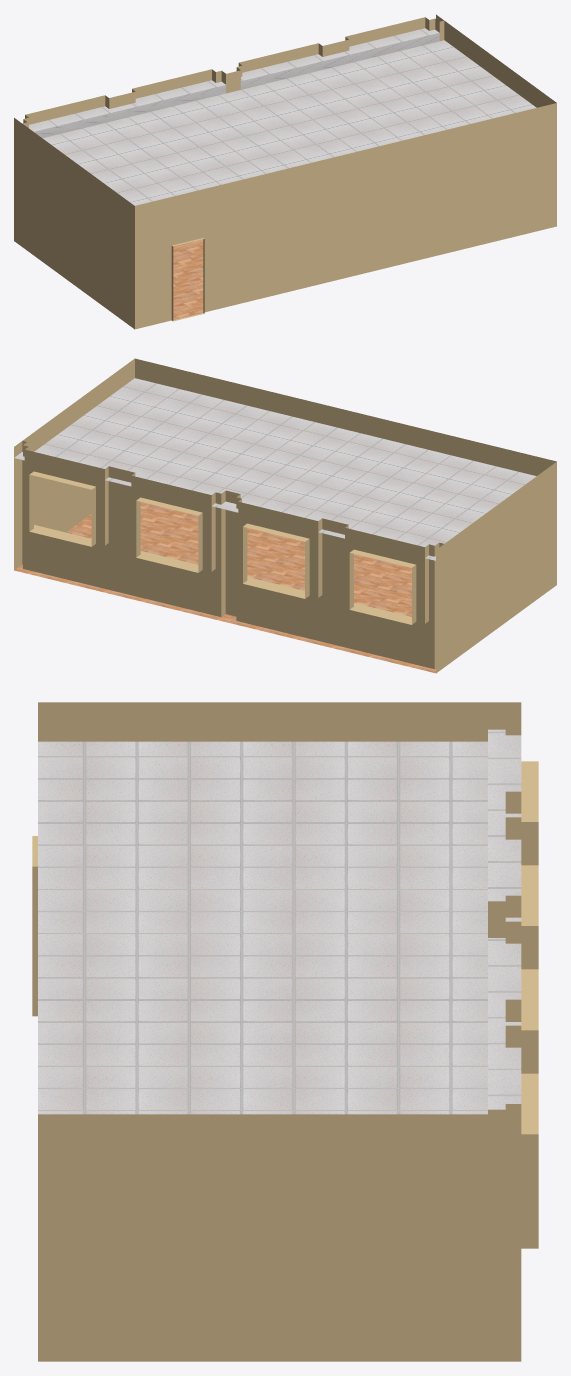
Rendered from room4_1.glb.
3 views of the same model, one above another, from view 1: azimuth 30°, elevation 25°; view 2: azimuth 150°, elevation 25°; view 3: azimuth 270°, elevation 25° (orthographic). The views are drawn at different scales.
Parts seen in each view (by area): view 1: 4et.010; view 2: 4et.010; view 3: 4et.010.
Boxes of the visible parts, <box> form: 4et.010: <box>14,14,556,329</box>; 4et.010: <box>14,358,556,673</box>; 4et.010: <box>32,702,538,1361</box>.
Bounding box in the file's own units: 11.8 × 3.3 × 6.13.
3 materials, 2 textured.
